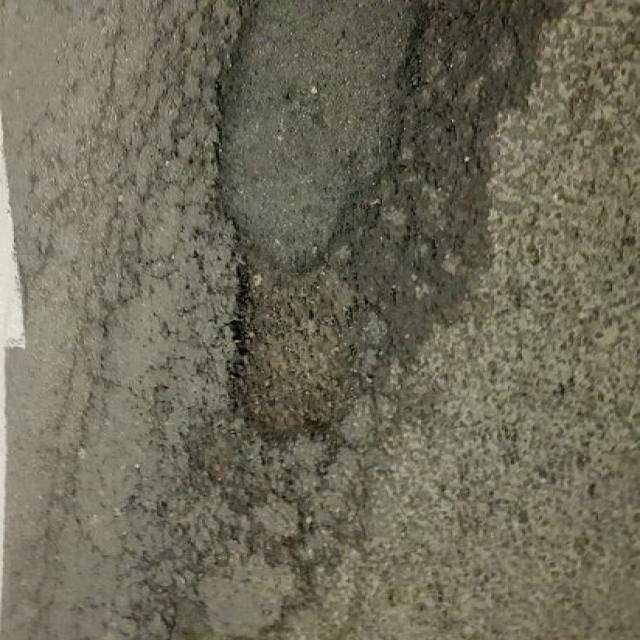pothole: (216, 250, 393, 446)
